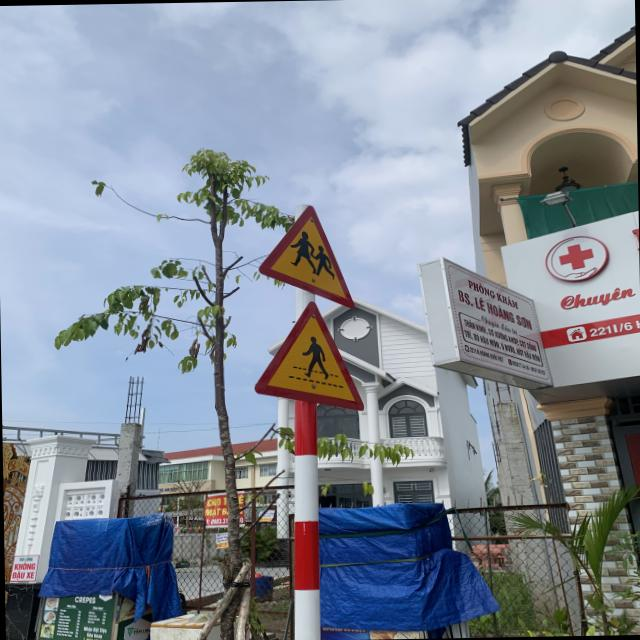Duong_Nguoi_Di_Bo_Sang_Ngang: (254, 298, 366, 412)
Vong_Xuyen: (258, 203, 357, 309)
